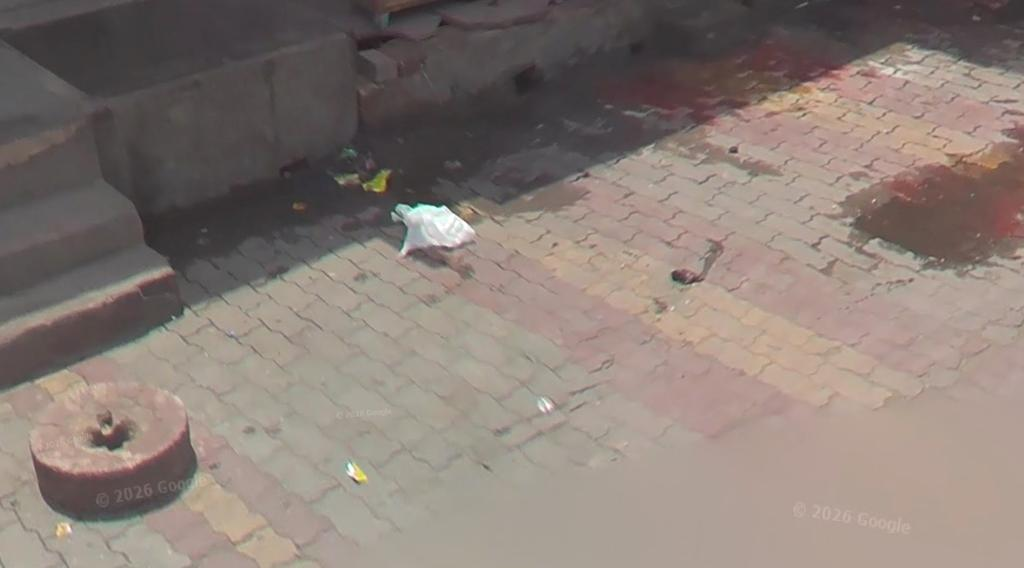garbage: (378, 195, 486, 263)
